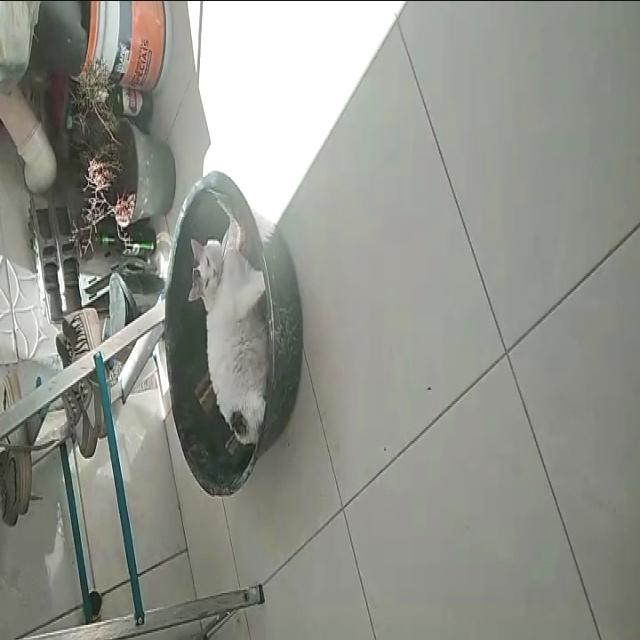Simba: (180, 184, 276, 479)
